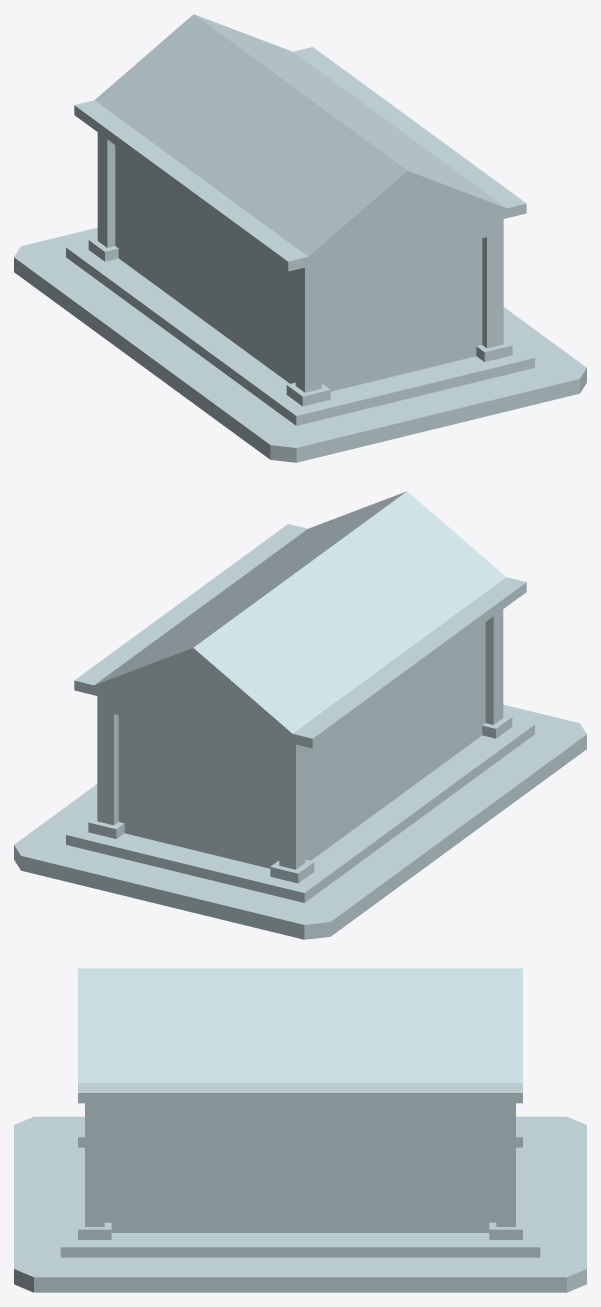
Rendered from crypt.glb.
3 views of the same model, one above another, from view 1: azimuth 30°, elevation 25°; view 2: azimuth 150°, elevation 25°; view 3: azimuth 270°, elevation 25° (orthographic). The views are drawn at different scales.
Parts seen in each view (by area): view 1: crypt; view 2: crypt; view 3: crypt.
Boxes of the visible parts, x1,y1,x2,y2 form: crypt: (14, 14, 586, 462); crypt: (14, 491, 586, 939); crypt: (14, 968, 586, 1292).
Size of the model in its own units: 0.7504 by 0.532 by 1.13.
